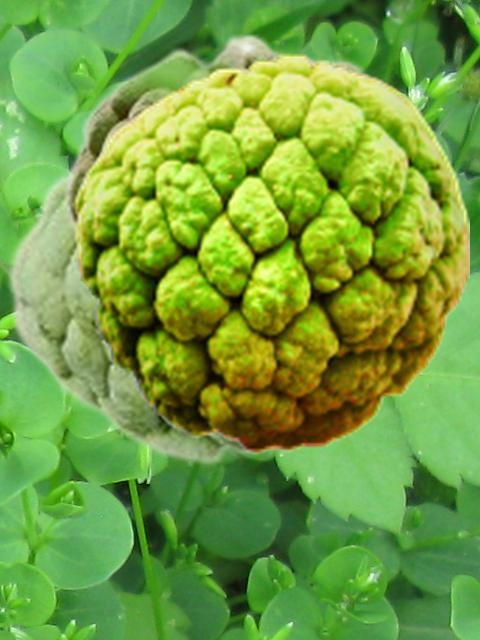atis: (72, 52, 468, 453), (4, 163, 271, 466), (60, 31, 407, 232)
